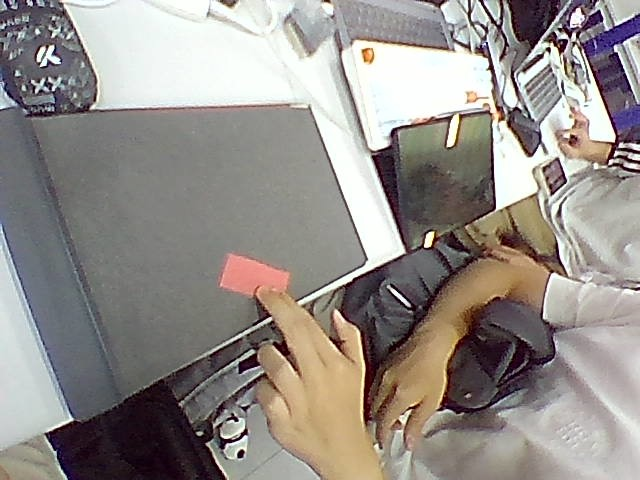card: (220, 254, 290, 296)
